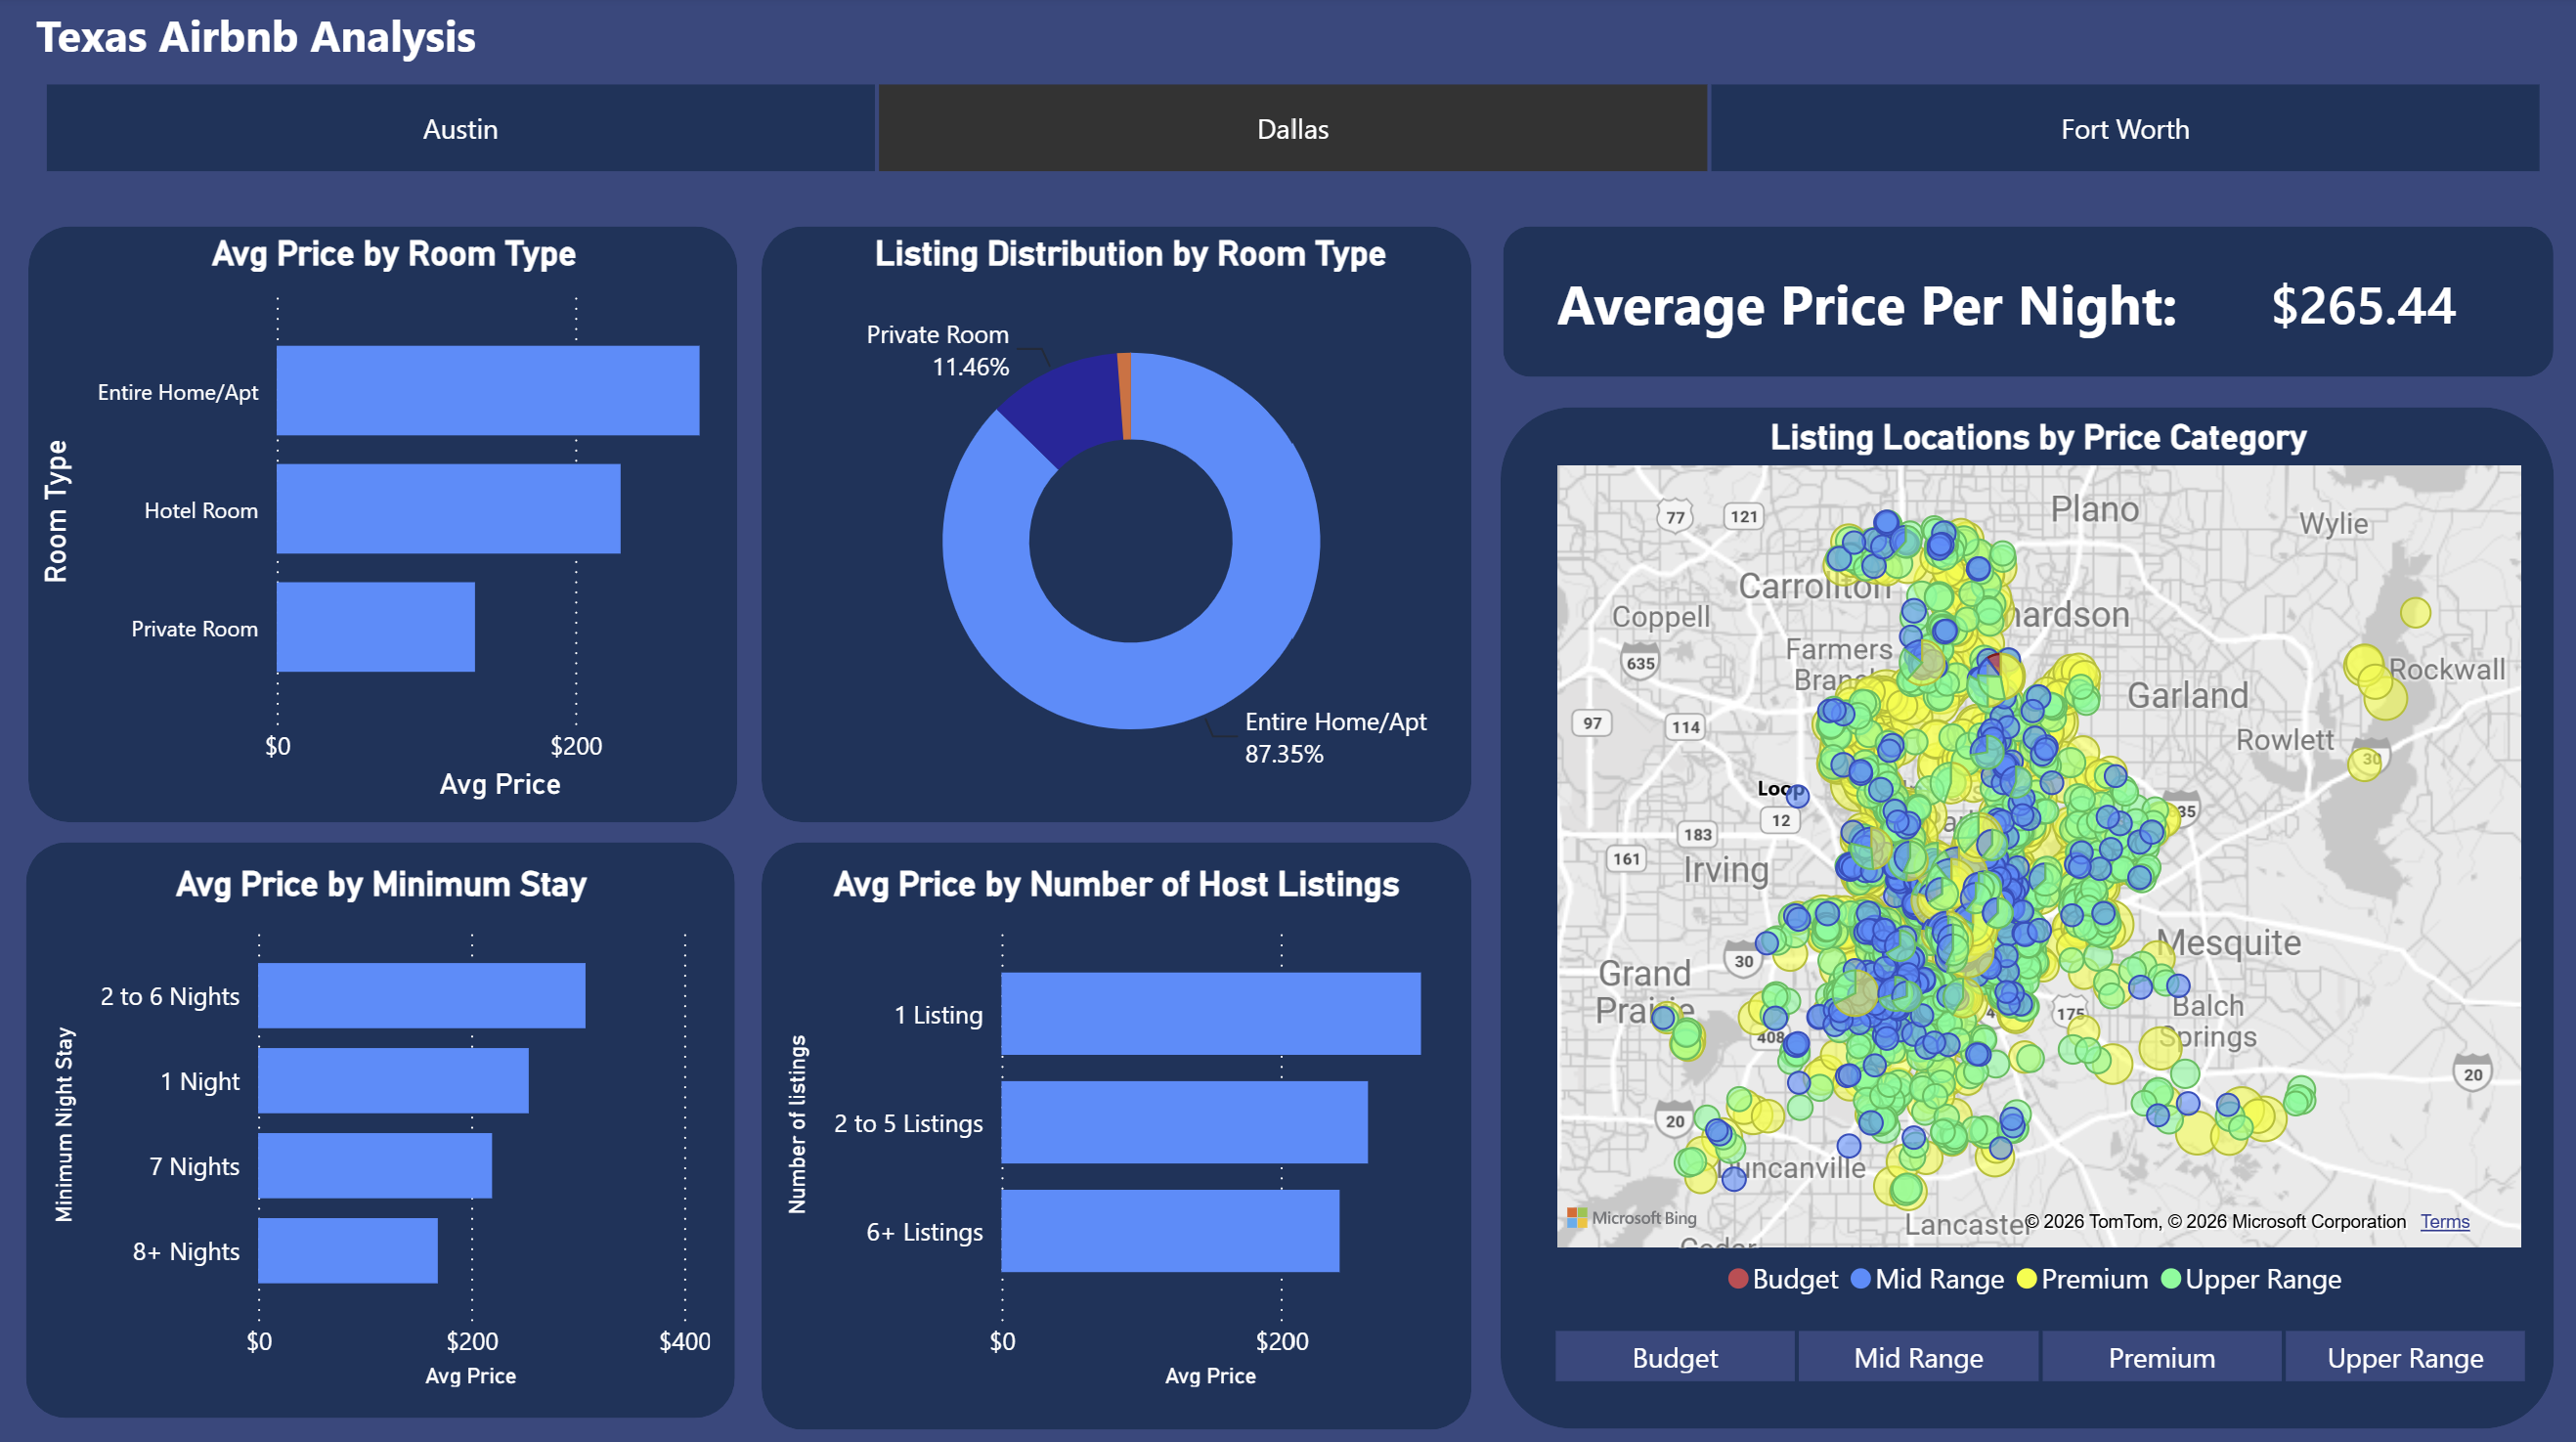

The page's visual inventory and layout, read from the dashboard file:
{"tool":"powerbi","page":{"name":"Page 1","canvas":[1280,720],"ordinal":0},"visuals":[{"type":"shape","box":[744.3,114.3,518.6,74.3],"z":0},{"type":"shape","box":[742.9,204.3,520,504.3],"z":1000},{"type":"shape","box":[378.6,114.3,350,294.3],"z":2000},{"type":"shape","box":[378.6,418.6,350,290],"z":3000},{"type":"shape","box":[15.7,418.6,350,284.3],"z":4000},{"type":"shape","box":[17.1,114.3,350,294.3],"z":5000},{"type":"slicer","fields":{"Values":["public listings.city"]},"box":[0,37.1,1280,57.1],"z":6000},{"type":"cardVisual","title":"Avg Nightly Price","fields":{"Data":["Avg(public listings.price)"]},"box":[1094.3,114.3,145.7,74.3],"z":7000},{"type":"clusteredBarChart","title":"Avg Price by Room Type","fields":{"Category":["public listings.room_type"],"Y":["Avg(public listings.price)"]},"box":[17.1,118.6,361.4,284.3],"z":8000},{"type":"donutChart","title":"Listing Distribution by Room Type","fields":{"Category":["public listings.room_type"],"Y":["CountNonNull(public listings.price)"]},"box":[378.6,118.6,364.3,284.3],"z":9000},{"type":"map","title":"Listing Locations by Price Category","fields":{"Y":["public listings.latitude"],"X":["public listings.longitude"],"Size":["Avg(public listings.price)"],"Series":["public listings.price_category"]},"box":[765.7,208.6,485.7,444.3],"z":10000},{"type":"slicer","fields":{"Values":["public listings.price_category"]},"box":[744.3,652.9,528.6,38.6],"z":11000},{"type":"clusteredBarChart","title":"Avg Price by Minimum Stay","fields":{"Category":["public listings.minimum_stay_category"],"Y":["Avg(public listings.price)"]},"box":[24.3,430,334.3,262.9],"z":12000},{"type":"clusteredBarChart","title":"Avg Price by Number of Host Listings","fields":{"Category":["public listings.host_category"],"Y":["Avg(public listings.price)"]},"box":[385.7,430,335.7,262.9],"z":13000},{"type":"textbox","box":[15.7,0,315.7,40],"z":13001},{"type":"textbox","box":[765.7,128.6,344.3,47.1],"z":13002}]}

Visuals, with their boxes in screenshot pixels (x1, y1, x2, y2), scaled from the page's 1280x720 canvas onto the 2576x1442 screenshot:
shape: 1498 229 2542 377
shape: 1495 410 2542 1420
shape: 762 229 1466 818
shape: 762 839 1466 1420
shape: 31 839 736 1408
shape: 34 229 739 818
slicer - public listings.city: 0 74 2575 189
"Avg Nightly Price" cardVisual: 2203 229 2496 377
"Avg Price by Room Type" clusteredBarChart: 34 238 762 807
"Listing Distribution by Room Type" donutChart: 762 238 1495 807
"Listing Locations by Price Category" map: 1541 417 2518 1308
slicer - public listings.price_category: 1498 1308 2561 1385
"Avg Price by Minimum Stay" clusteredBarChart: 49 861 721 1387
"Avg Price by Number of Host Listings" clusteredBarChart: 776 861 1452 1387
textbox: 31 0 667 80
textbox: 1541 257 2234 352
